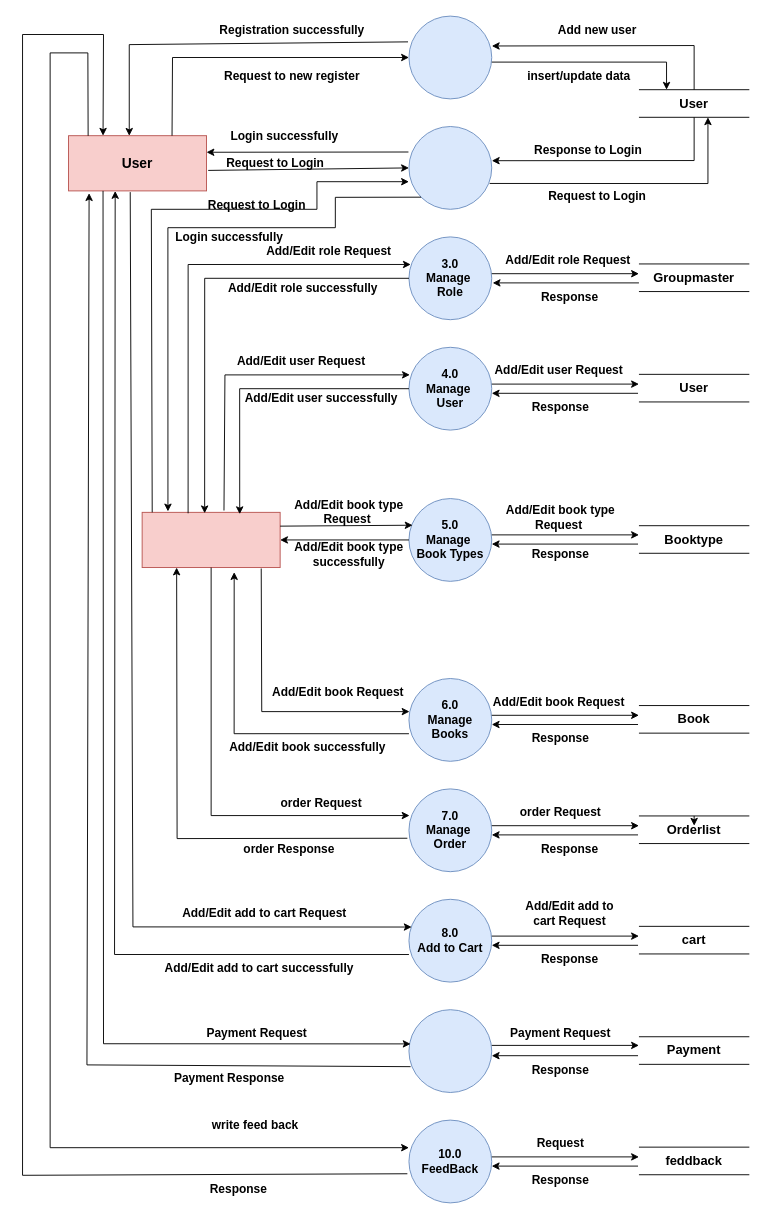
Some shapes in this 766 by 1219 pixel diagram are drawn without their labels. Each missing label, with the box of its shape:
1.0 Registration: (408, 15, 492, 99)
2.0 Login: (408, 126, 492, 209)
9.0 Payment: (408, 1009, 492, 1092)
Admin: (141, 511, 280, 568)
